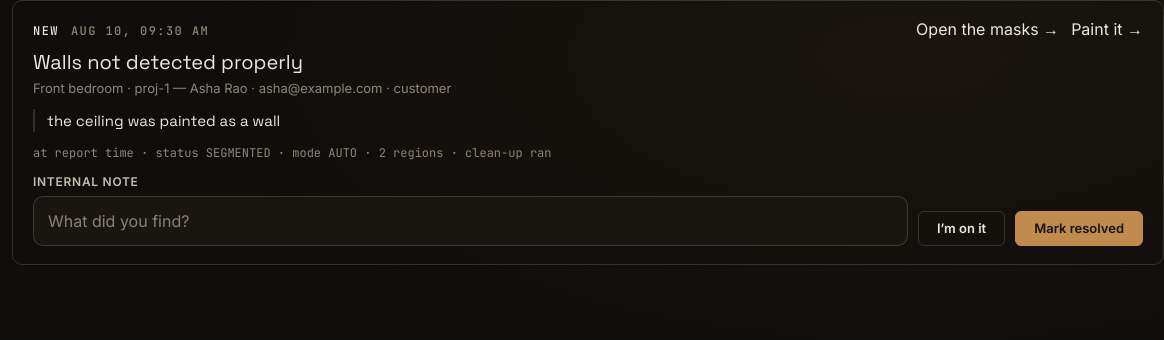
Test case: MaskReports › surfaces a failed update instead of showing the change as applied
The width and height of the screenshot is (1164, 340).
Click the button "Mark resolved". click: (1079, 229)
box: [1015,211,1143,246]
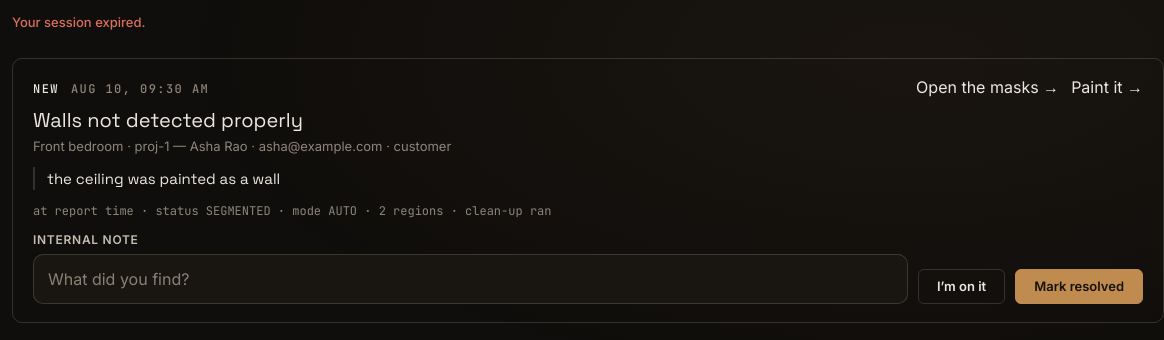
Check: the button "Mark resolved" is shown, box [1015,269,1143,304]
Check: the message reads "Your session expired.", box [12,14,145,30]
